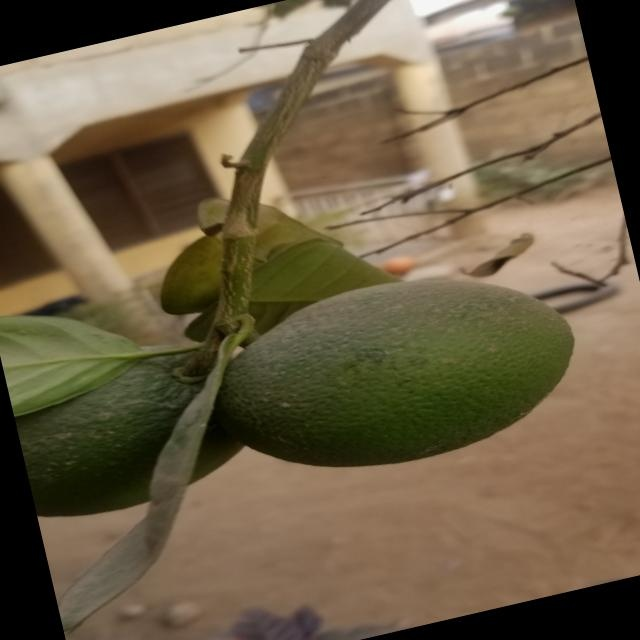agrume: (206, 241, 598, 503), (8, 328, 250, 529)
